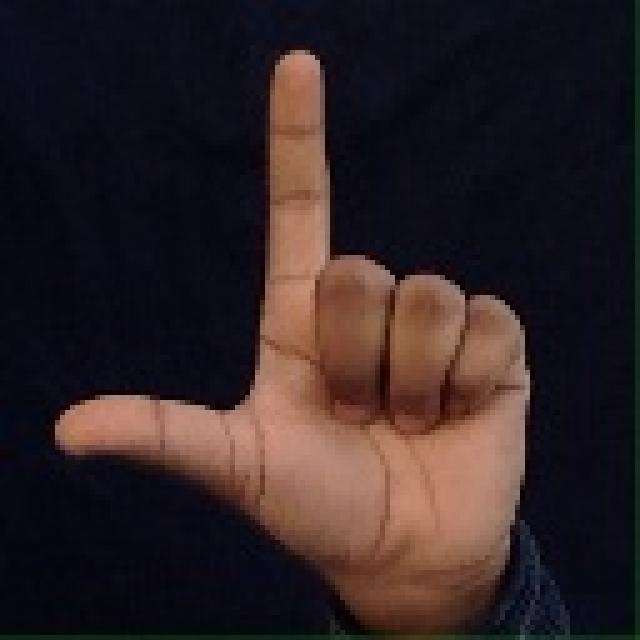Alphabet-L: (33, 49, 531, 615)
